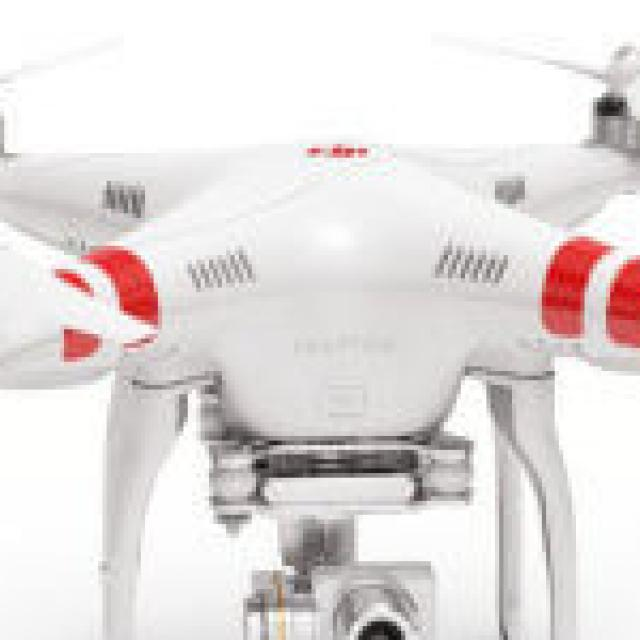drone: (0, 33, 640, 473)
